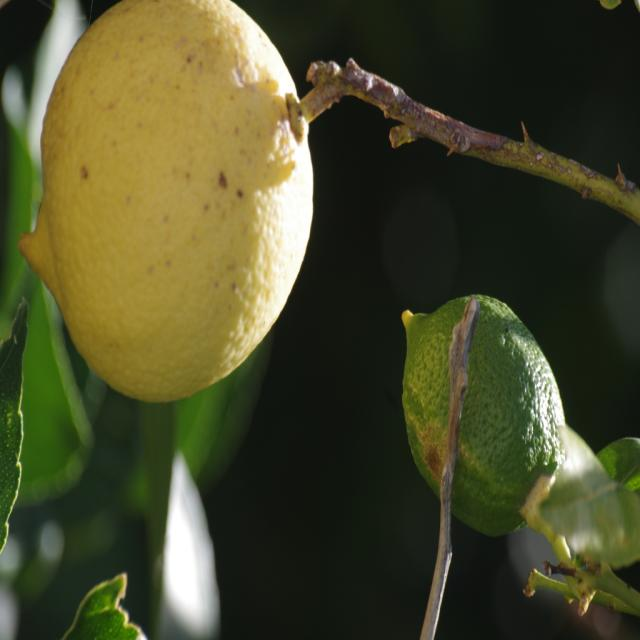Lemon: (33, 17, 325, 392)
